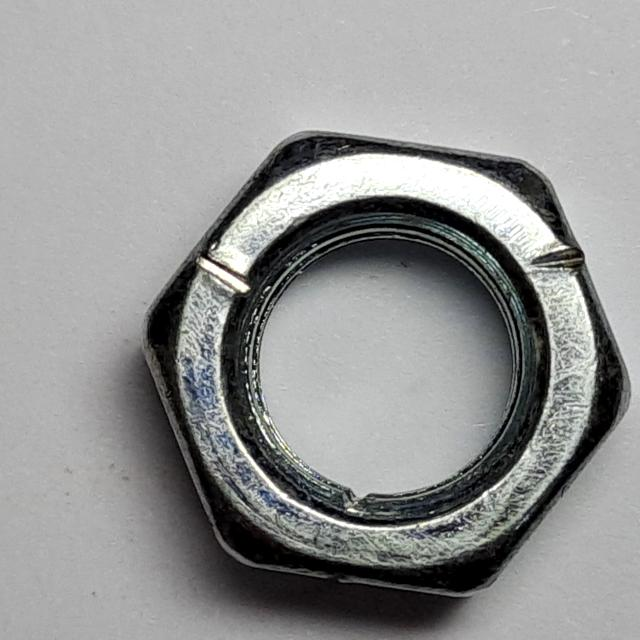Scratches: (130, 119, 640, 609)
